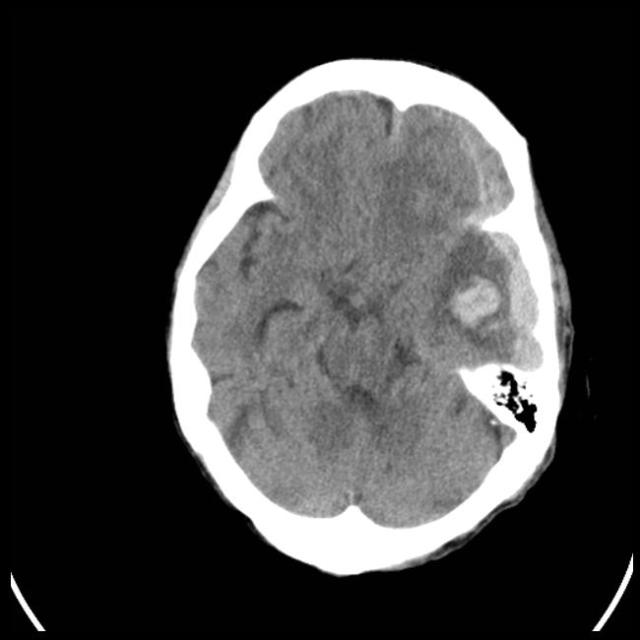lesion: (164, 58, 576, 577)
